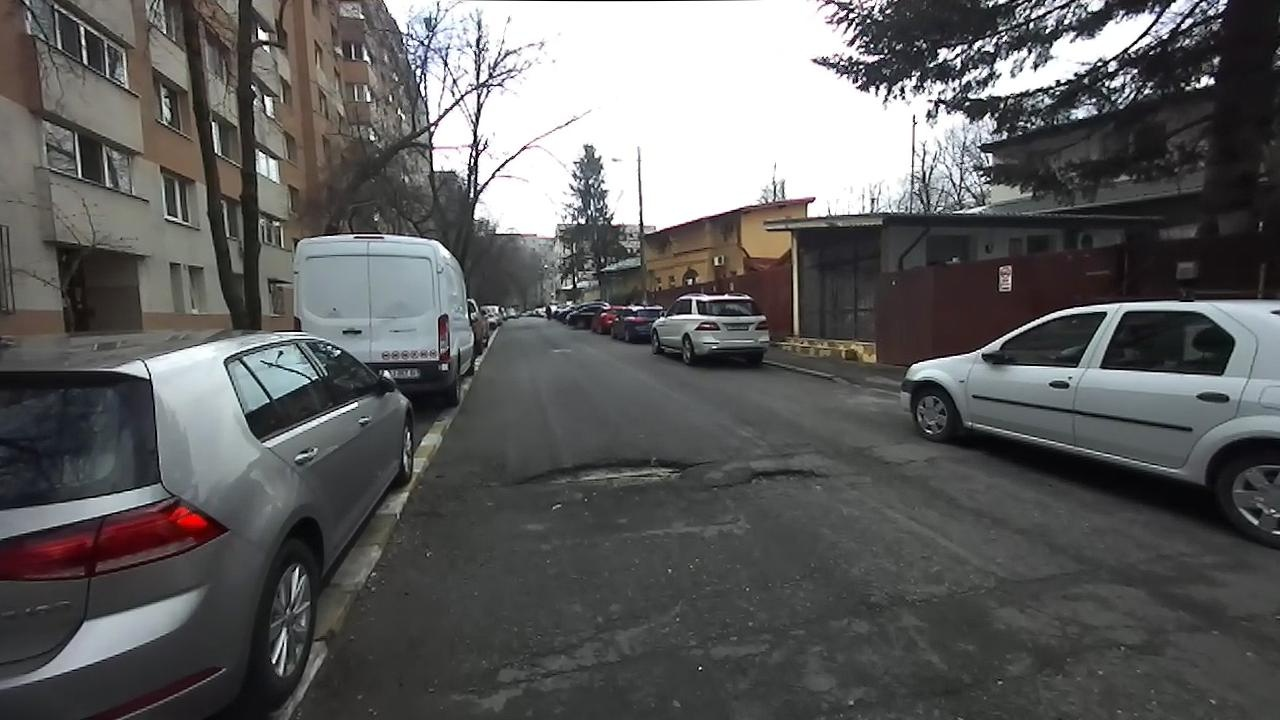pothole: (503, 452, 704, 493), (720, 464, 831, 494)
